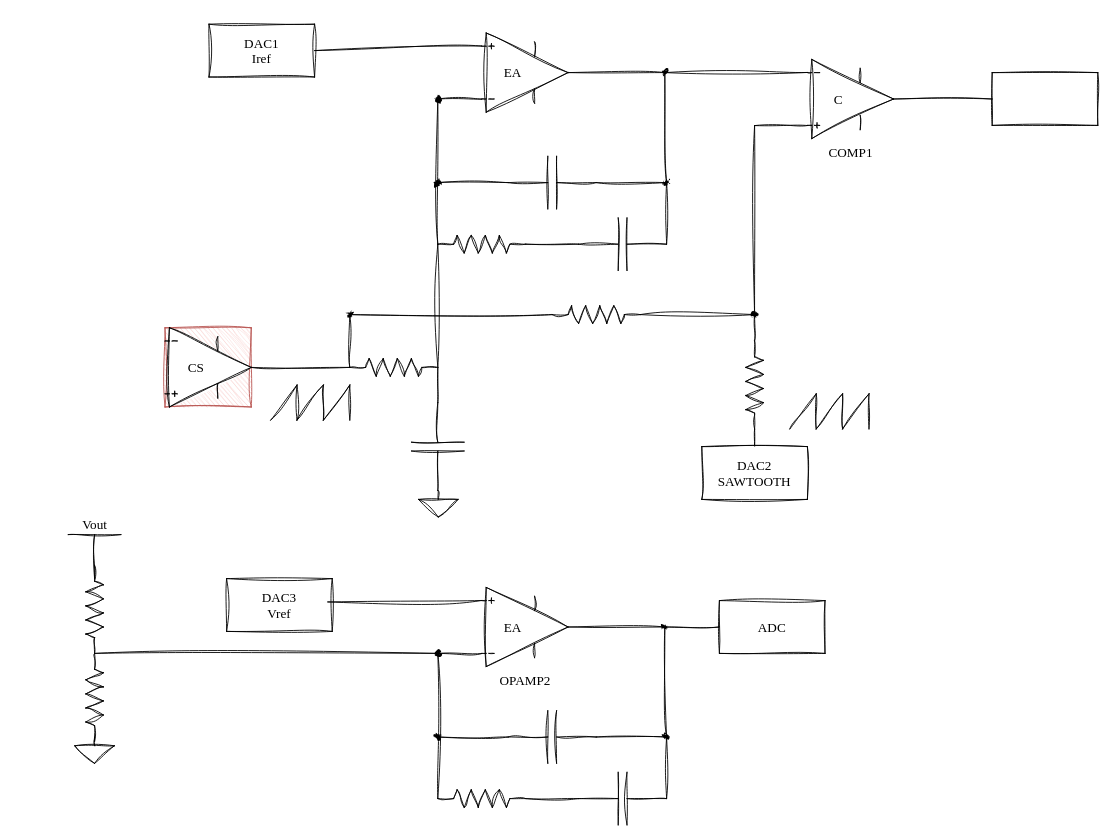
Some shapes in this 1113 by 840 pixel diagram are drawn without their labels. Each missing label, with the box of its shape:
External Current Sense: (164, 327, 251, 407)
OPAMP1: (481, 32, 568, 112)
TIM15: (991, 72, 1098, 125)
